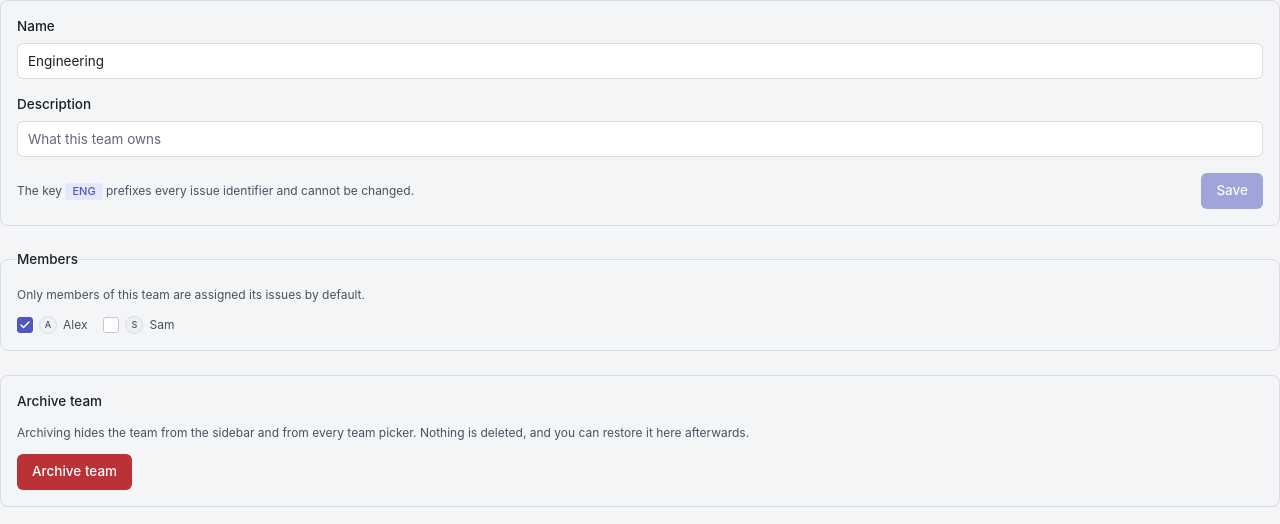
Test: TeamSettingsPanel › keeps save inert until something actually changed
The width and height of the screenshot is (1280, 524).
Check: the button "Save" is disabled, box left=1201, top=173, right=1263, bottom=209
Type "x" into the field labelled "Name" at {"x": 640, "y": 61}, box left=17, top=43, right=1263, bottom=79
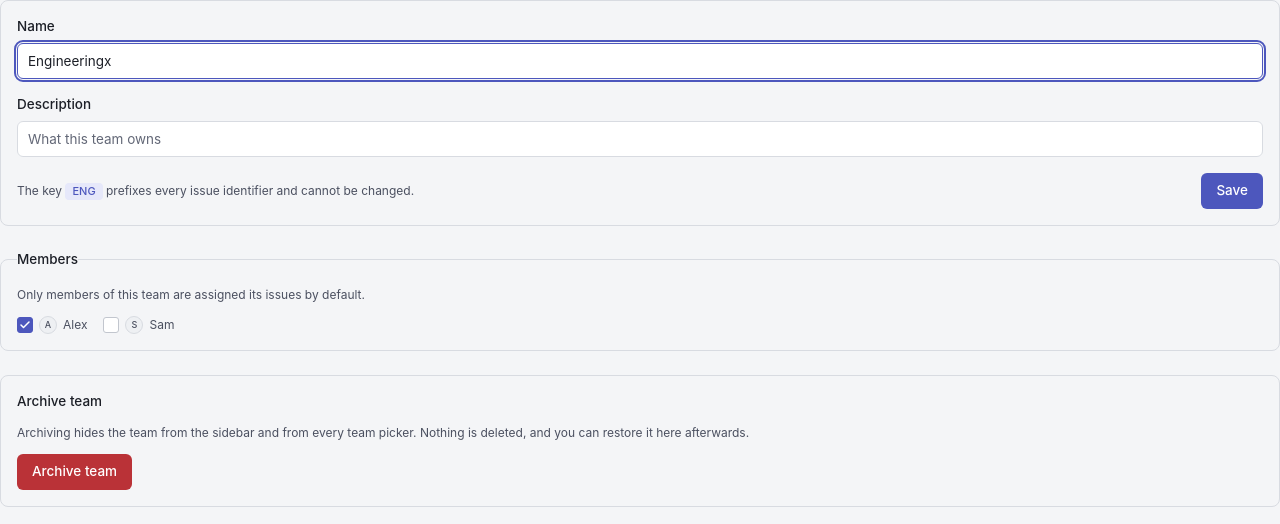
Check: the button "Save" is enabled, box left=1201, top=173, right=1263, bottom=209
